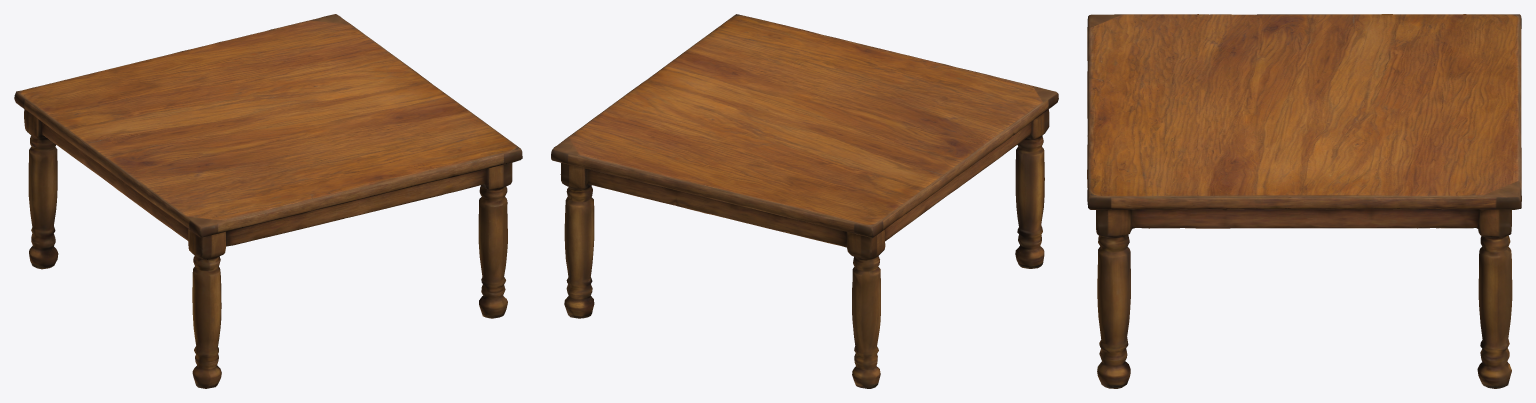
File: Meshy_AI_Table_of_kitchen_0124083211_texture.glb
The picture shows the model from 3 angles, left to right: view 1: azimuth 30°, elevation 25°; view 2: azimuth 150°, elevation 25°; view 3: azimuth 270°, elevation 25°; orthographic projection. The views are drawn at different scales.
Size of the model in its own units: 2.01 by 1.01 by 2.01.
1 material, 1 textured.
